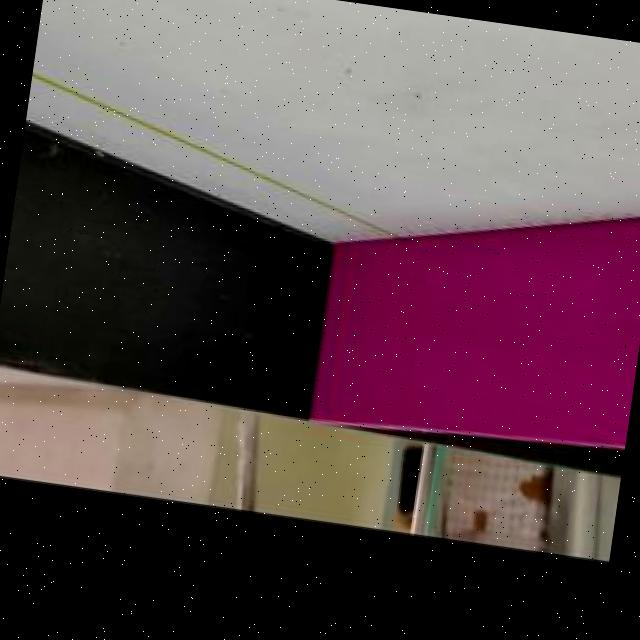xparking: (316, 202, 640, 447)
